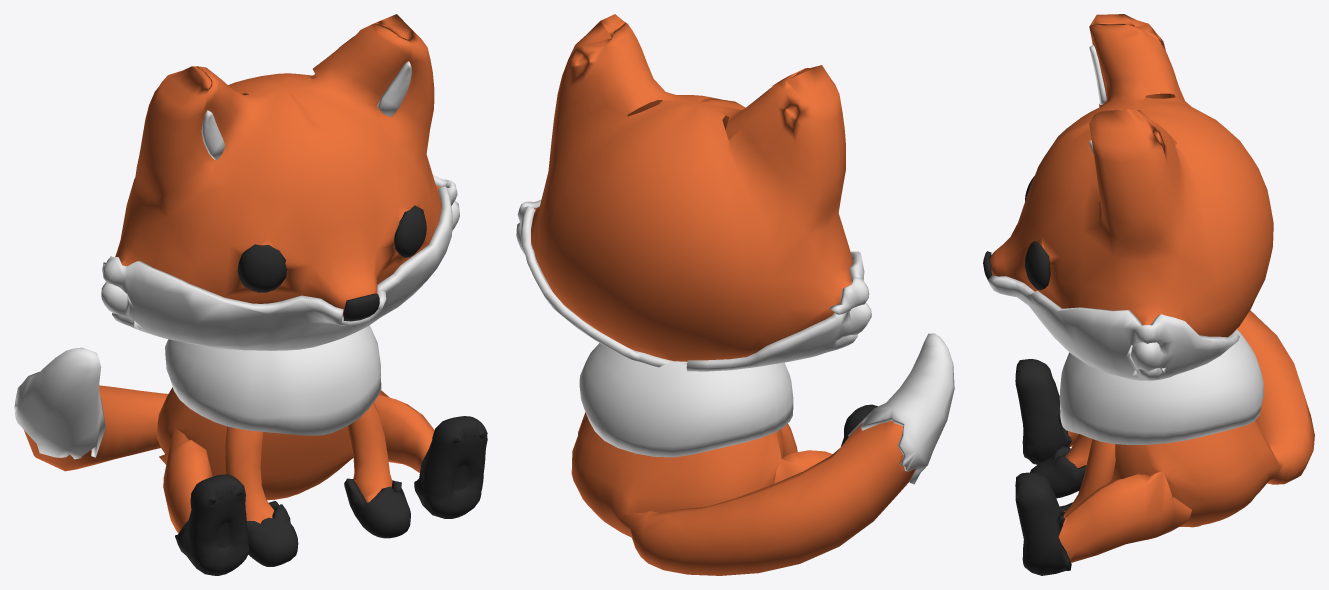
Rendered from mascot_fox.glb.
3 renders of one model, left to right at view 1: azimuth 30°, elevation 25°; view 2: azimuth 150°, elevation 25°; view 3: azimuth 270°, elevation 25°, orthographic. The views are drawn at different scales.
Parts seen in each view (by area): view 1: Fox_Body, Fox_Muzzle, Fox_Scarf, Fox_Tail_Tip, Fox_Paw_HL, Fox_Paw_HR, Fox_Paw_FL, Fox_Paw_FR, Fox_Eye_R, Fox_Eye_L, Fox_Ear_L, Fox_Nose (+1 smaller); view 2: Fox_Body, Fox_Scarf, Fox_Muzzle, Fox_Tail_Tip; view 3: Fox_Body, Fox_Scarf, Fox_Muzzle, Fox_Paw_HL, Fox_Paw_HR, Fox_Paw_FR, Fox_Eye_L.
Part boxes in pixels (x1,y1,x2,y2): Fox_Body: [24, 14, 441, 533]; Fox_Muzzle: [101, 174, 459, 350]; Fox_Scarf: [165, 325, 381, 435]; Fox_Tail_Tip: [14, 347, 105, 459]; Fox_Paw_HL: [414, 416, 487, 518]; Fox_Paw_HR: [175, 474, 249, 575]; Fox_Paw_FL: [344, 478, 410, 538]; Fox_Paw_FR: [247, 501, 298, 566]; Fox_Eye_R: [237, 244, 286, 292]; Fox_Eye_L: [394, 205, 426, 257]; Fox_Ear_L: [377, 61, 411, 116]; Fox_Nose: [343, 293, 379, 321]; Fox_Body: [531, 14, 916, 575]; Fox_Scarf: [579, 343, 793, 457]; Fox_Muzzle: [516, 199, 871, 371]; Fox_Tail_Tip: [848, 333, 954, 484]; Fox_Body: [990, 14, 1314, 562]; Fox_Scarf: [1059, 329, 1263, 444]; Fox_Muzzle: [988, 275, 1239, 380]; Fox_Paw_HL: [1015, 472, 1071, 575]; Fox_Paw_HR: [1015, 359, 1071, 464]; Fox_Paw_FR: [1030, 445, 1086, 498]; Fox_Eye_L: [1025, 241, 1050, 290].
Bounding box in the file's own units: 1.23 × 1.32 × 0.8561.
